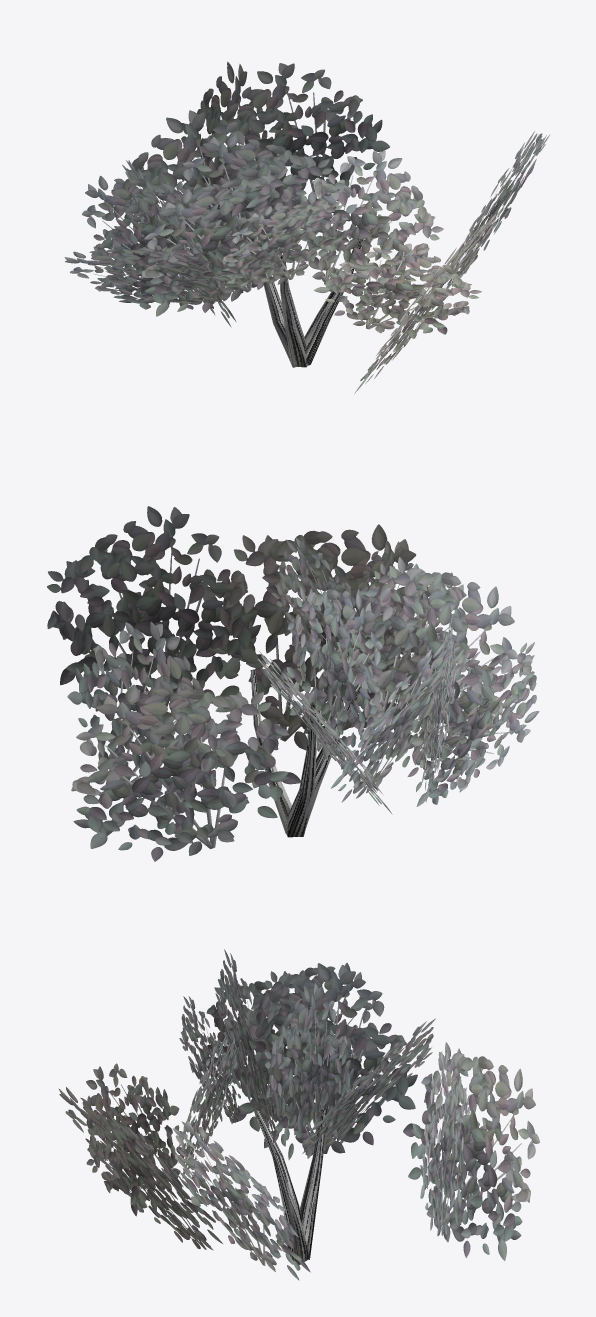
The model's file is shrub_heath_l1.gltf.
3 renders of one model, top to bottom at view 1: azimuth 30°, elevation 25°; view 2: azimuth 150°, elevation 25°; view 3: azimuth 270°, elevation 25°, orthographic. The views are drawn at different scales.
Visible parts, largest first — view 1: shrub_heath_l1; view 2: shrub_heath_l1; view 3: shrub_heath_l1.
Part boxes in pixels (x1,y1,x2,y2): shrub_heath_l1: (64, 61, 550, 393); shrub_heath_l1: (47, 506, 539, 861); shrub_heath_l1: (58, 949, 539, 1280).
Bounding box in the file's own units: 1.59 × 0.8845 × 1.54.
Materials: 2 (2 with a texture image).
